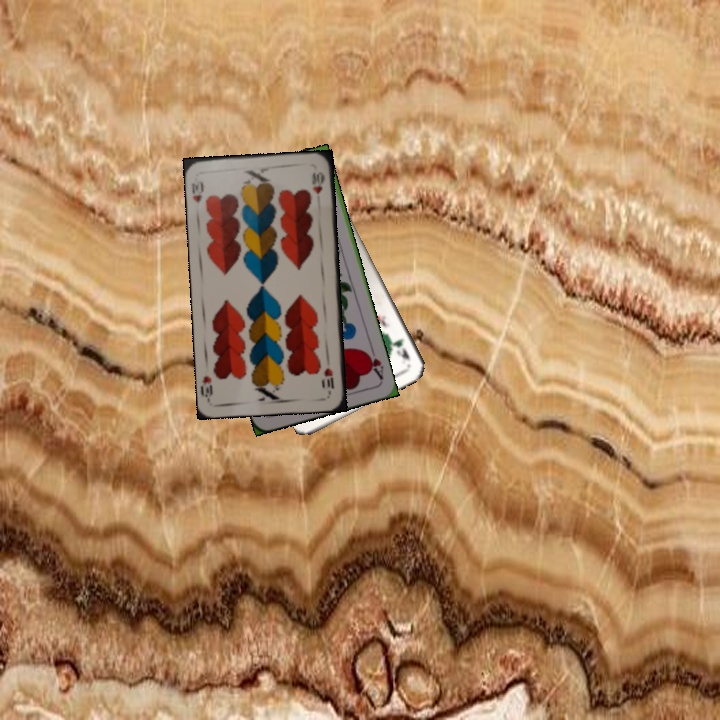GK: (389, 334, 413, 364)
H10: (188, 174, 206, 206), (320, 364, 336, 391)
HA: (361, 343, 386, 383)
